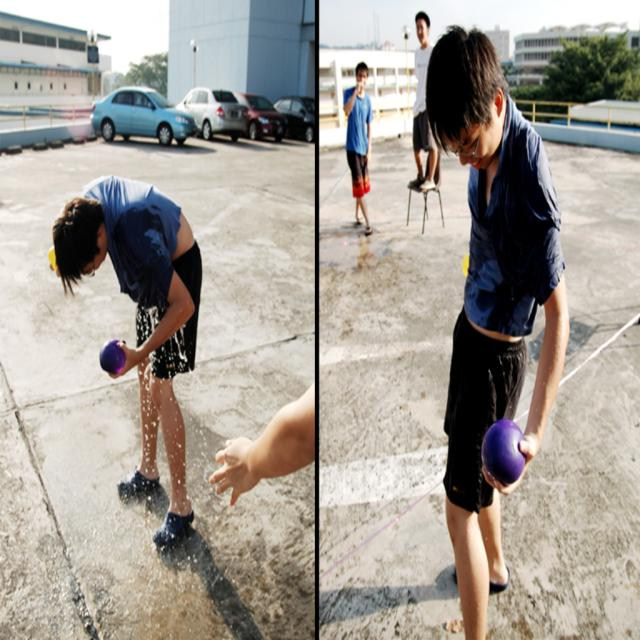car: (81, 73, 183, 132)
